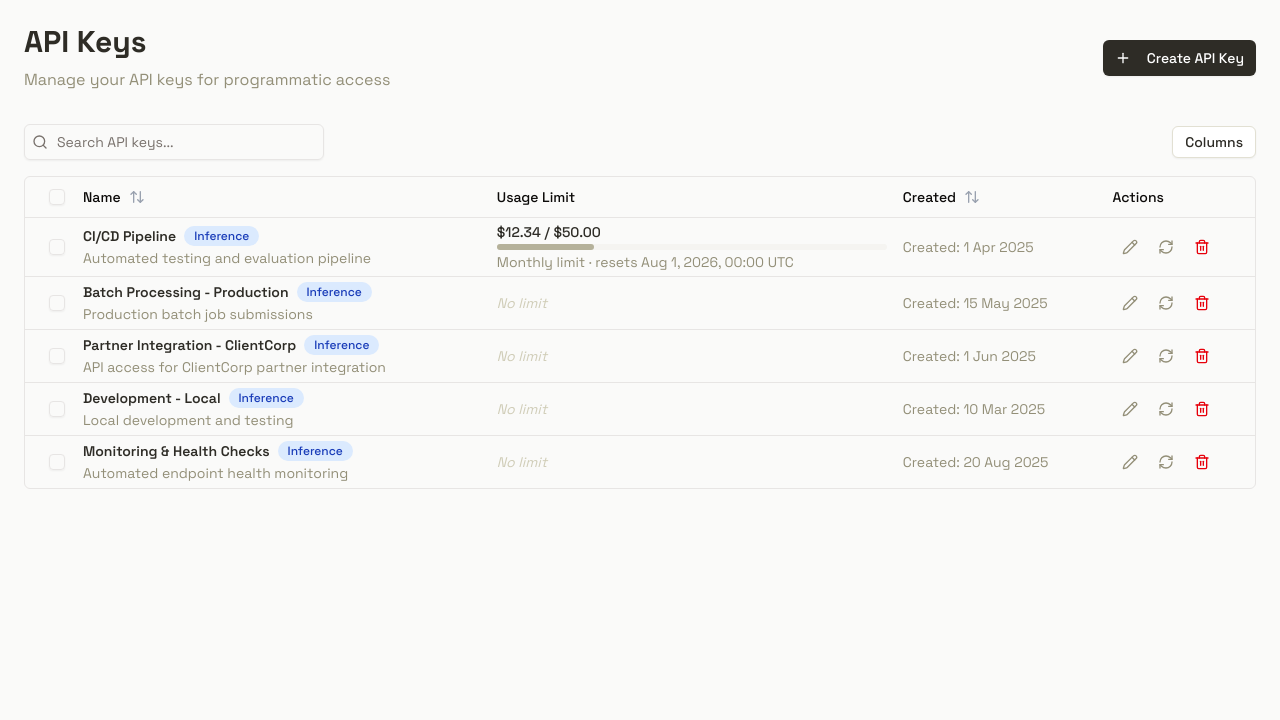
Test: API Keys Component - Functional Tests › API Keys List Journey › displays existing API keys and allows creating new ones
Expected: the heading "API Keys" is shown, [24,22,147,61]
Expected: the text "Manage your API keys for programmatic access" is shown, [24,68,390,92]
Click the button with aria-label "create new api key": (1179, 58) [1103,40,1256,76]
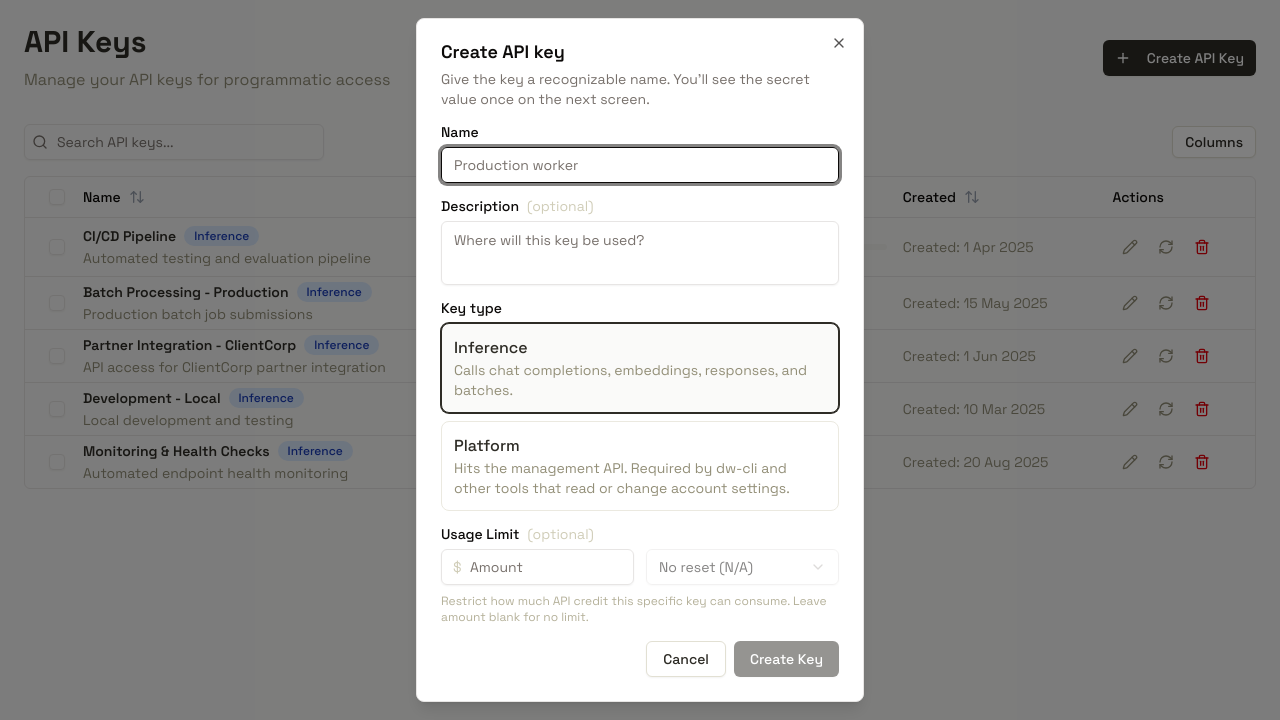
Now the dialog is shown, box [416,18,864,702]
Now the heading "Create API key" is shown, box [441,40,565,63]
